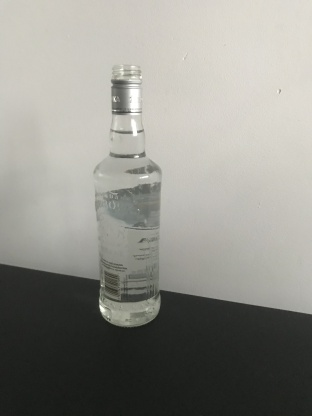nakretka: (108, 65, 144, 116)
